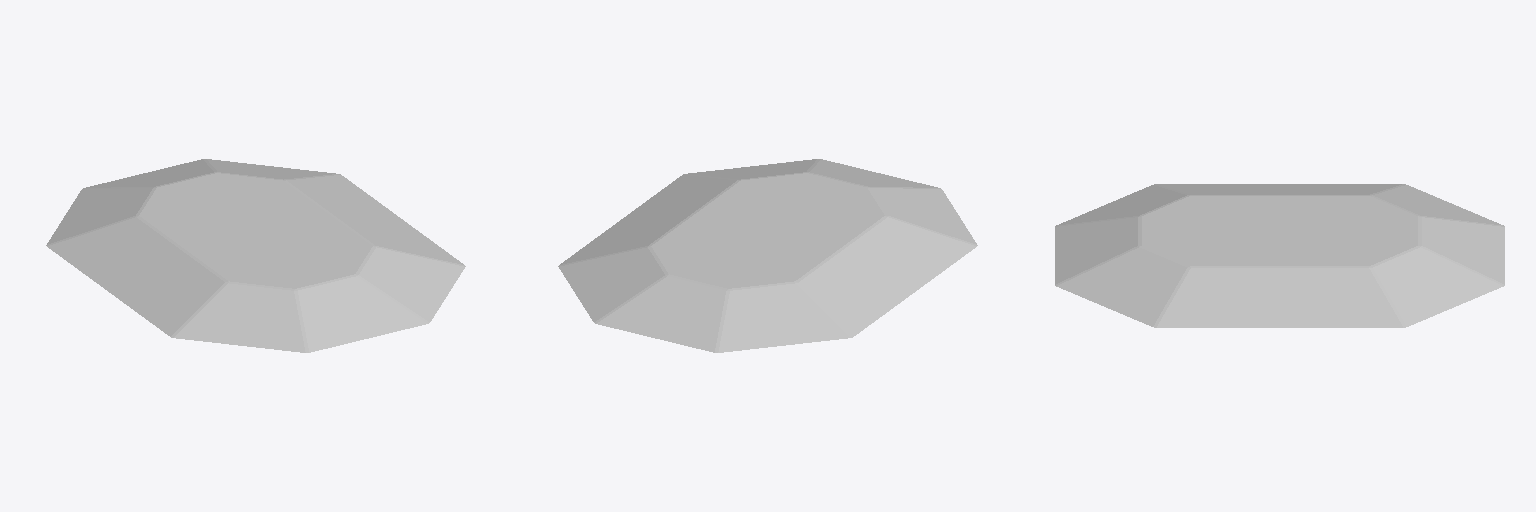
File: gem-8-long.obj
The picture shows the model from 3 angles: view 1: azimuth 30°, elevation 25°; view 2: azimuth 150°, elevation 25°; view 3: azimuth 270°, elevation 25°; orthographic projection.
Visible parts, largest first — view 1: gem_Cylinder; view 2: gem_Cylinder; view 3: gem_Cylinder.
Boxes of the visible parts, box(x1,y1,x2,y2) form: gem_Cylinder: box(46, 159, 465, 352); gem_Cylinder: box(558, 159, 977, 352); gem_Cylinder: box(1055, 184, 1504, 327).
Size of the model in its own units: 18.48 by 3 by 24.48.